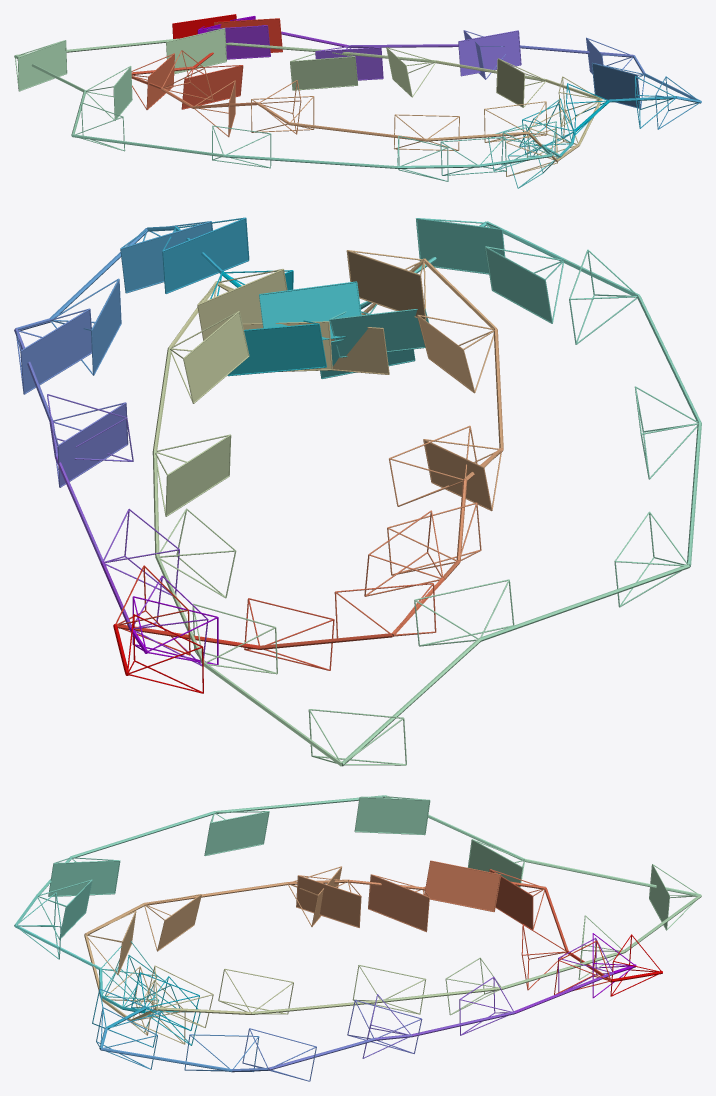
Rendered from vgtt.glb.
3 renders of one model, top to bottom at view 1: azimuth 30°, elevation 25°; view 2: azimuth 150°, elevation 25°; view 3: azimuth 270°, elevation 25°, orthographic. The views are drawn at different scales.
Visible parts, largest first — view 1: frustums, trajectory; view 2: frustums, trajectory; view 3: frustums, trajectory.
Part boxes in pixels (x1,y1,x2,y2): frustums: (15,14,698,188); trajectory: (14,31,701,168); frustums: (16,217,698,765); trajectory: (14,221,701,766); frustums: (17,796,698,1081); trajectory: (14,795,701,1072).
Bounding box in the file's own units: 1.2 × 0.2538 × 1.3.
